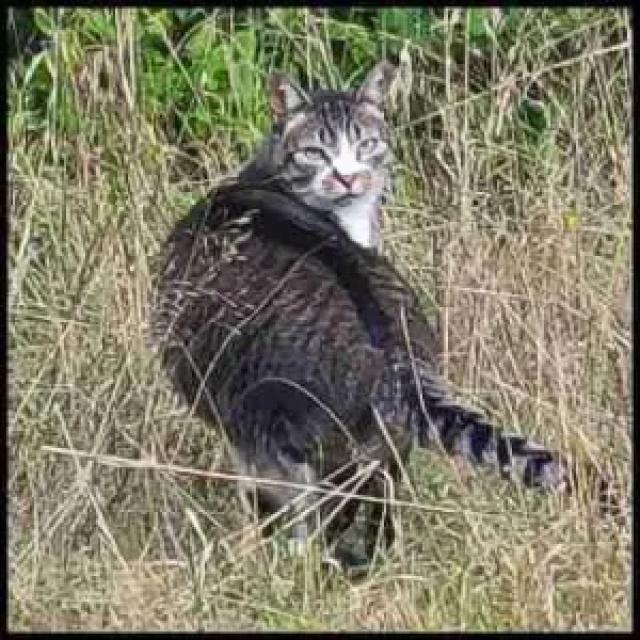cat: (152, 62, 569, 574)
